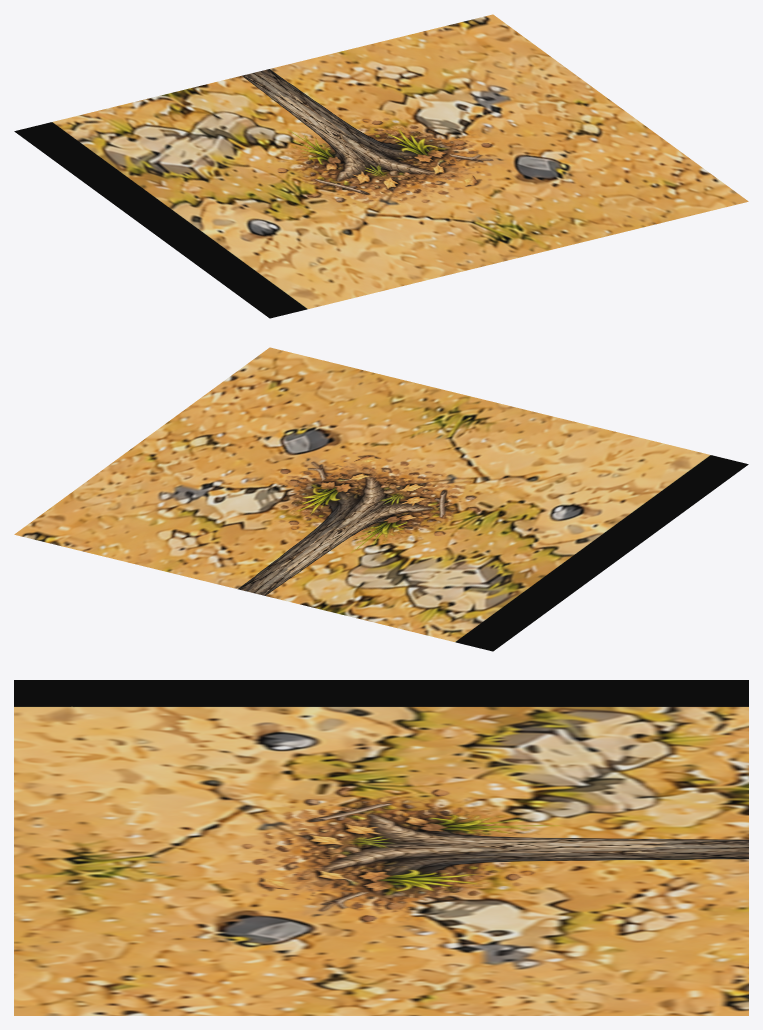
File: tree_a_soil.glb
3 views of the same model, one above another, from view 1: azimuth 30°, elevation 25°; view 2: azimuth 150°, elevation 25°; view 3: azimuth 270°, elevation 25° (orthographic). The views are drawn at different scales.
Parts seen in each view (by area): view 1: tree_a_soil; view 2: tree_a_soil; view 3: tree_a_soil.
Part boxes in pixels (bbox=[...]): tree_a_soil: bbox=[14, 14, 748, 318]; tree_a_soil: bbox=[14, 347, 748, 651]; tree_a_soil: bbox=[14, 680, 748, 1015].
Bounding box in the file's own units: 5.88 × 0 × 5.44.
Materials: 1 (1 with a texture image).
